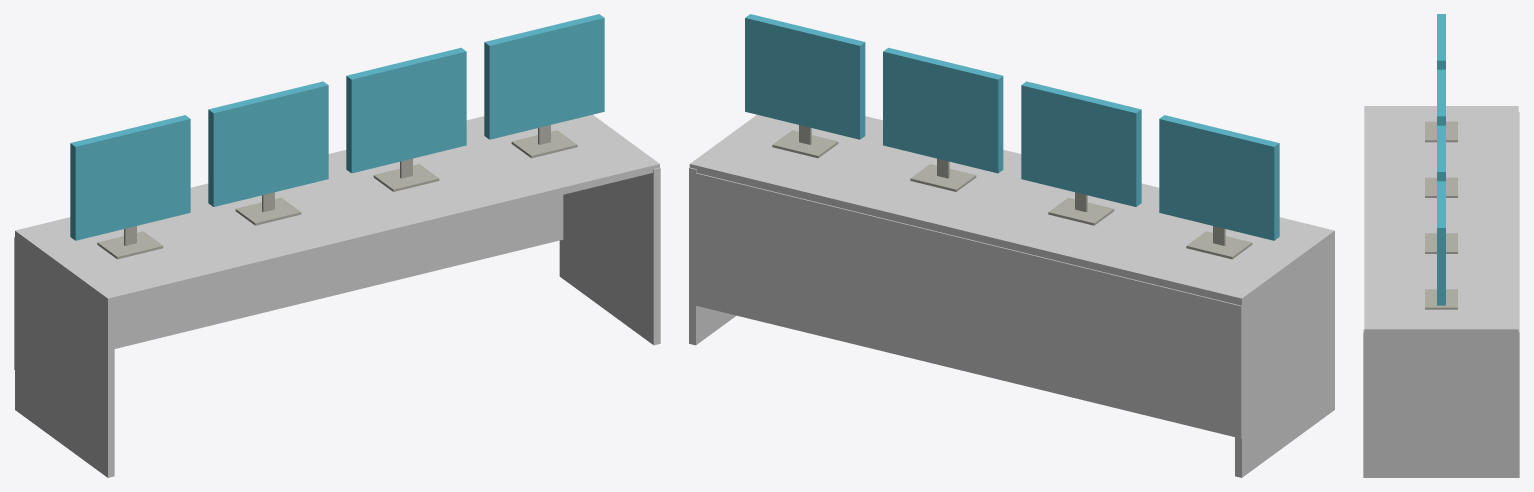
The model's file is computer_and_table.glb.
3 renders of one model, left to right at view 1: azimuth 30°, elevation 25°; view 2: azimuth 150°, elevation 25°; view 3: azimuth 270°, elevation 25°, orthographic. The views are drawn at different scales.
Visible parts, largest first — view 1: Cube, Cube.003, Cube.002, Cube.001, Cube.006, Cube.009, Cube.013, Cube.012, Cube.015, Cube.010, Cube.004, Cube.007; view 2: Cube.003, Cube, Cube.002, Cube.012, Cube.013, Cube.006, Cube.009, Cube.001, Cube.015, Cube.010, Cube.007, Cube.004; view 3: Cube, Cube.001, Cube.003, Cube.013, Cube.015, Cube.010, Cube.006, Cube.012, Cube.004, Cube.007, Cube.009.
Boxes of the visible parts, x1=… form: Cube: x1=15, y1=114, x2=659, y2=305; Cube.003: x1=14, y1=195, x2=563, y2=372; Cube.002: x1=15, y1=240, x2=114, y2=477; Cube.001: x1=559, y1=167, x2=660, y2=345; Cube.006: x1=346, y1=47, x2=466, y2=173; Cube.009: x1=70, y1=115, x2=190, y2=240; Cube.013: x1=484, y1=14, x2=604, y2=139; Cube.012: x1=208, y1=81, x2=328, y2=206; Cube.015: x1=511, y1=130, x2=577, y2=158; Cube.010: x1=97, y1=231, x2=163, y2=259; Cube.004: x1=235, y1=197, x2=301, y2=225; Cube.007: x1=373, y1=164, x2=439, y2=191; Cube.003: x1=689, y1=171, x2=1245, y2=438; Cube: x1=689, y1=114, x2=1334, y2=305; Cube.002: x1=1235, y1=238, x2=1334, y2=477; Cube.012: x1=1021, y1=81, x2=1141, y2=206; Cube.013: x1=745, y1=14, x2=865, y2=139; Cube.006: x1=883, y1=47, x2=1003, y2=173; Cube.009: x1=1159, y1=115, x2=1279, y2=240; Cube.001: x1=689, y1=167, x2=735, y2=345; Cube.015: x1=772, y1=130, x2=838, y2=158; Cube.010: x1=1186, y1=231, x2=1252, y2=259; Cube.007: x1=910, y1=164, x2=976, y2=191; Cube.004: x1=1048, y1=197, x2=1114, y2=225; Cube: x1=1364, y1=106, x2=1518, y2=335; Cube.001: x1=1363, y1=329, x2=1519, y2=477; Cube.003: x1=1513, y1=112, x2=1519, y2=444; Cube.013: x1=1437, y1=181, x2=1445, y2=305; Cube.015: x1=1425, y1=289, x2=1457, y2=309; Cube.010: x1=1425, y1=121, x2=1457, y2=142; Cube.006: x1=1437, y1=125, x2=1445, y2=181; Cube.012: x1=1437, y1=69, x2=1445, y2=125; Cube.004: x1=1425, y1=177, x2=1457, y2=197; Cube.007: x1=1425, y1=233, x2=1457, y2=253; Cube.009: x1=1437, y1=14, x2=1445, y2=69.
Bounding box in the file's own units: 4.8 × 2.46 × 1.42.
